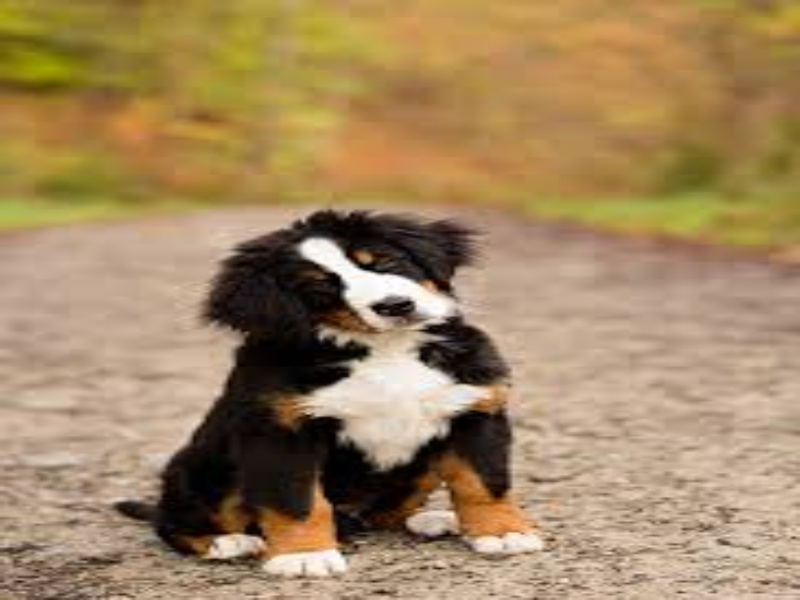dog: (121, 166, 619, 562)
